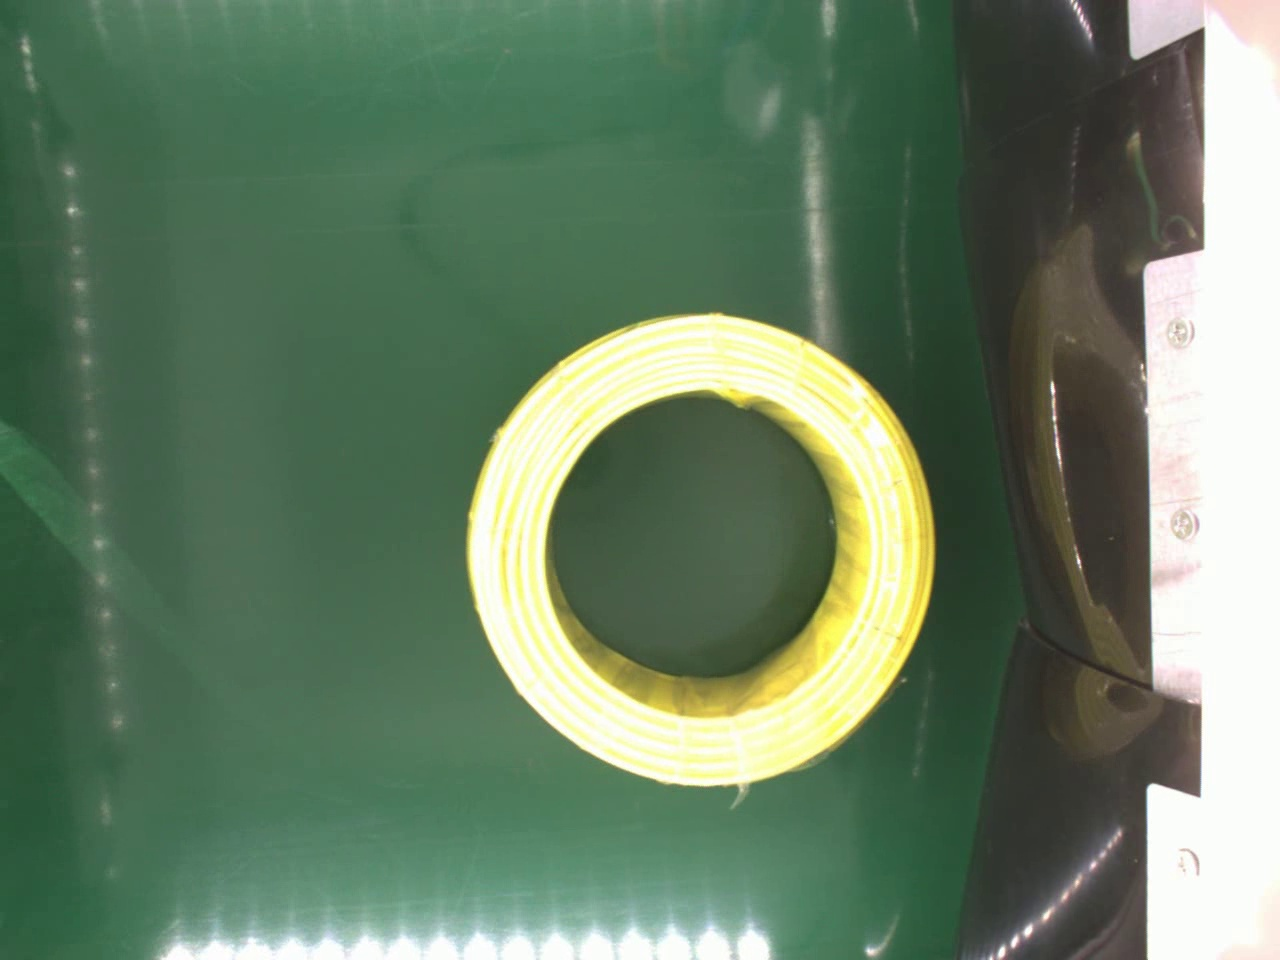yellow: (455, 307, 938, 790)
